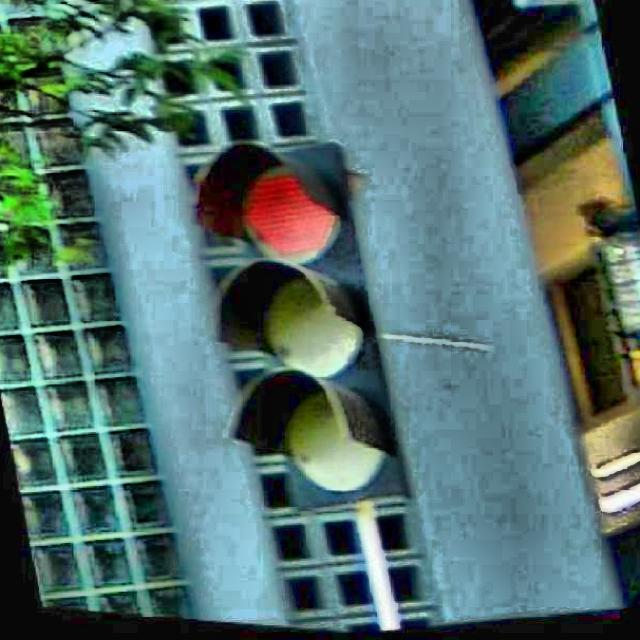red: (216, 138, 390, 506)
